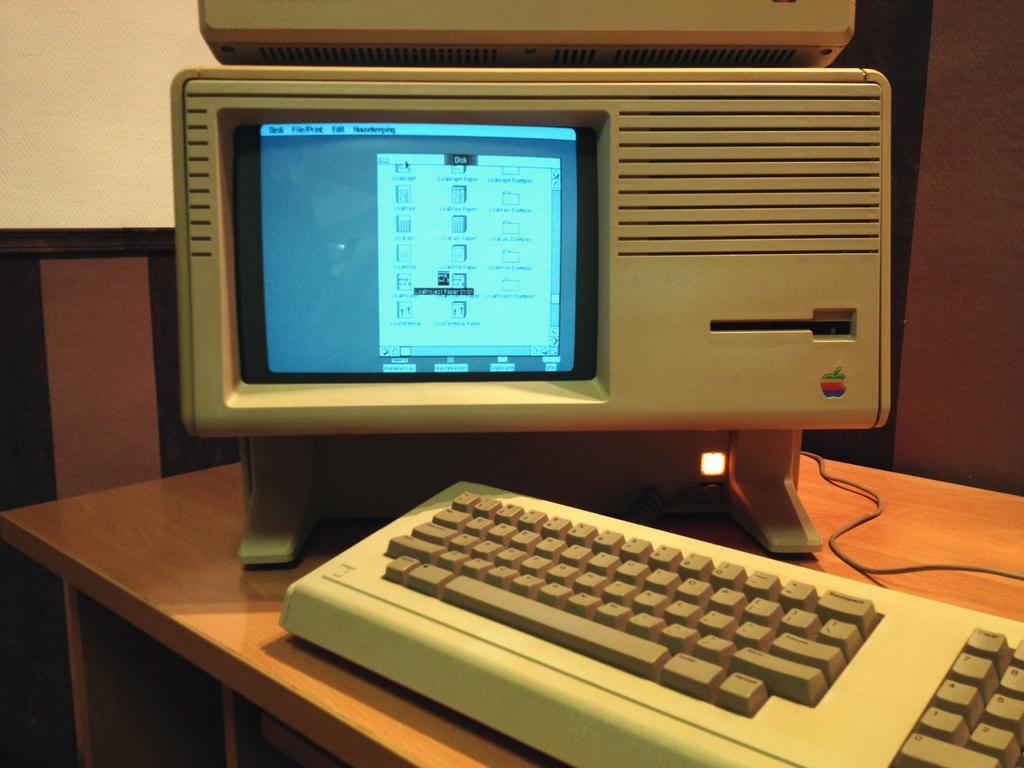Computer-keyboard: (280, 478, 1023, 767)
Computer-monitor: (174, 69, 888, 547)
